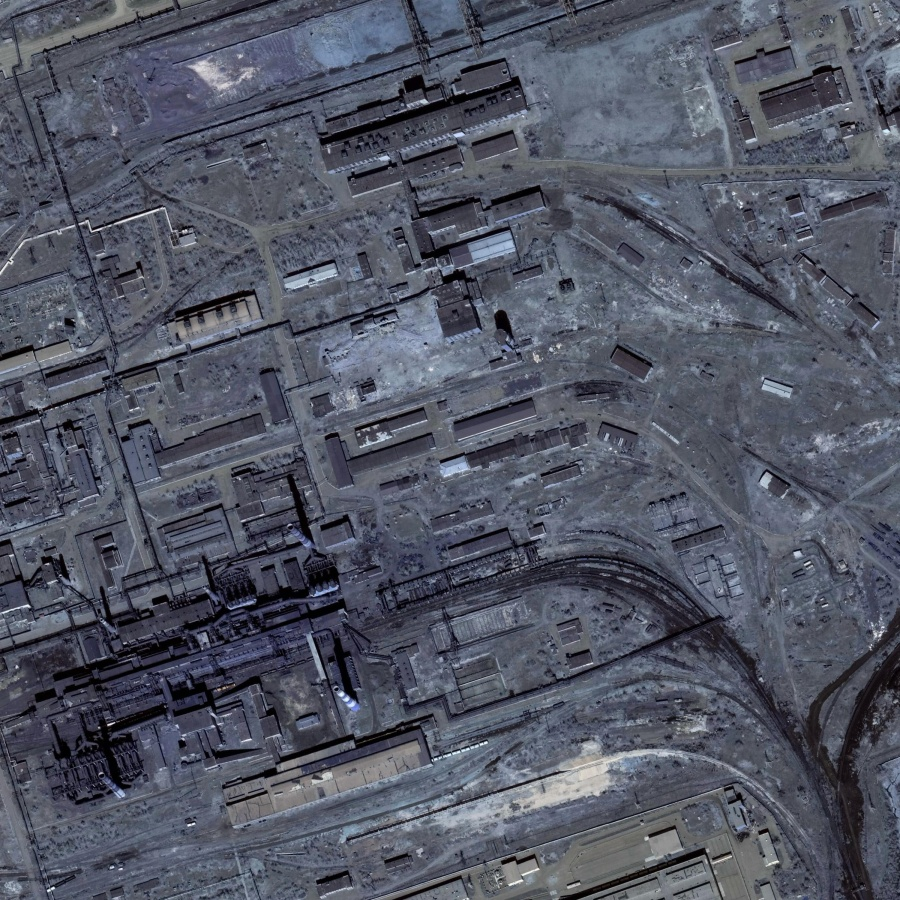PowerPlant: (28, 511, 380, 805)
